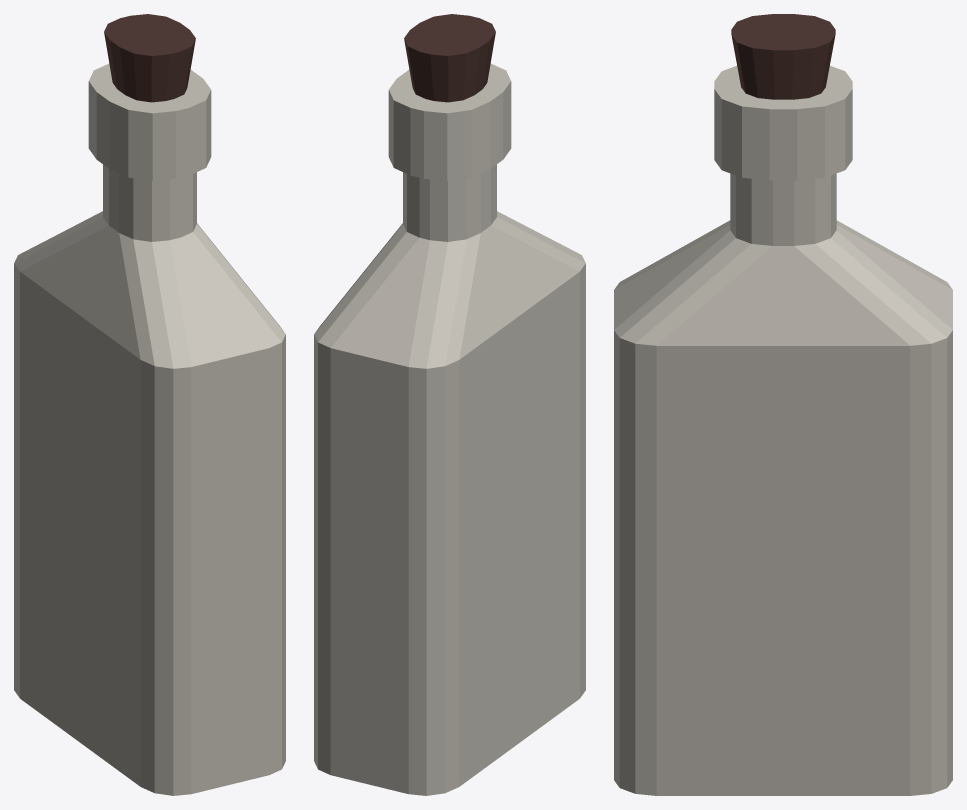
File: Vodka bottle.fbx
3 renders of one model, left to right at view 1: azimuth 30°, elevation 25°; view 2: azimuth 150°, elevation 25°; view 3: azimuth 270°, elevation 25°, orthographic. The views are drawn at different scales.
Parts seen in each view (by area): view 1: Cube.027; view 2: Cube.027; view 3: Cube.027.
Part boxes in pixels (left/top/right/bottom): Cube.027: left=14, top=14, right=285, bottom=795; Cube.027: left=314, top=14, right=585, bottom=795; Cube.027: left=614, top=14, right=952, bottom=795.
Size of the model in its own units: 0.1582 by 0.7498 by 0.3164.
